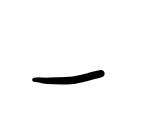minus: (32, 69, 104, 85)
